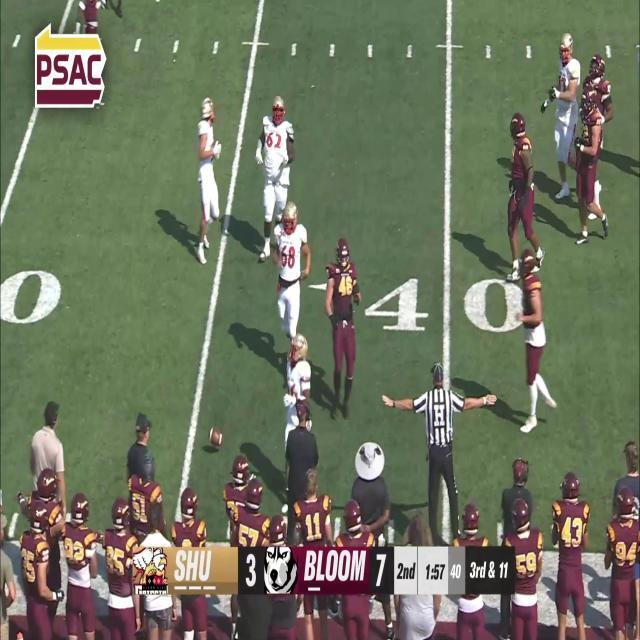football: (208, 426, 225, 448)
